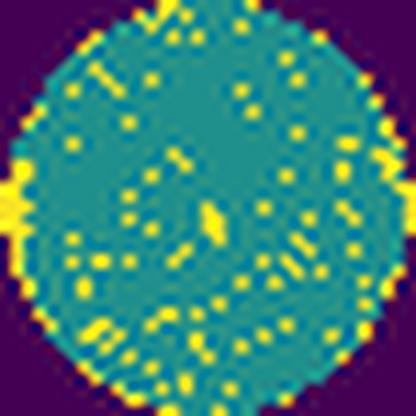Edge-Loc: (0, 152, 45, 300), (387, 179, 416, 241)
